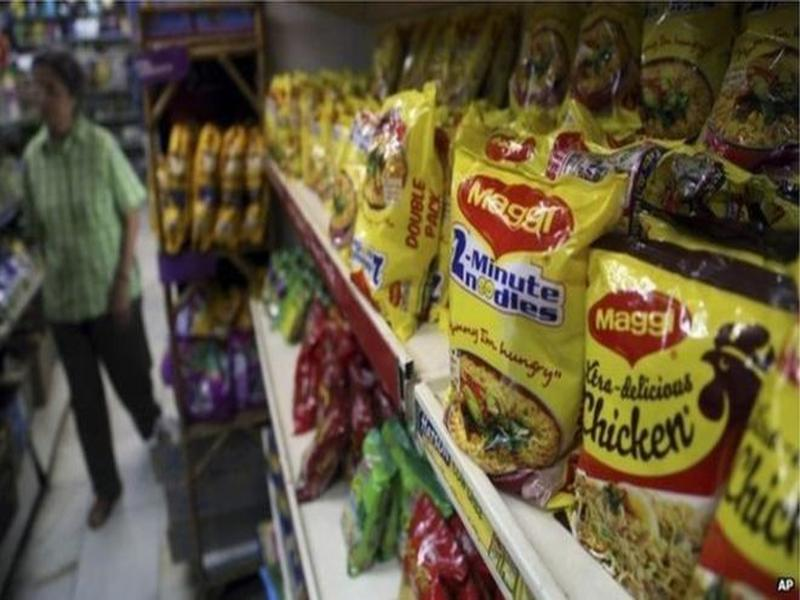maggi-small: (447, 148, 593, 513)
